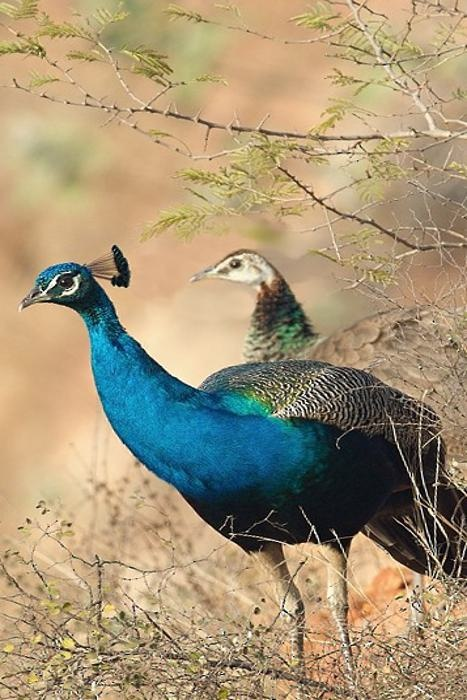peacock: (24, 256, 467, 635)
